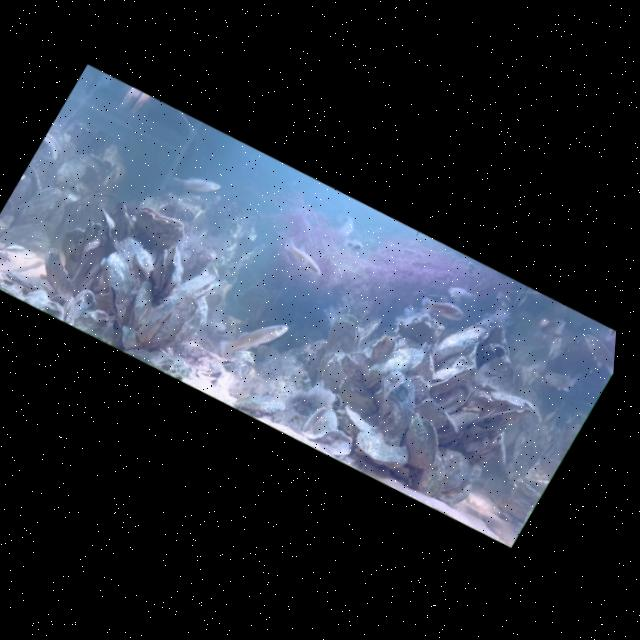Oyster-Closed: (79, 230, 166, 327), (351, 361, 436, 450), (358, 330, 428, 404), (426, 309, 493, 379), (344, 421, 415, 478), (150, 292, 202, 358), (420, 442, 478, 500), (423, 348, 479, 407), (130, 288, 180, 348), (0, 258, 62, 306), (116, 277, 165, 336), (333, 401, 392, 448), (410, 447, 460, 501), (329, 377, 383, 421), (404, 338, 450, 385), (86, 206, 126, 246)
Oyster-Indeterminate: (9, 175, 69, 242), (41, 220, 99, 282), (468, 374, 537, 426), (476, 391, 532, 446), (168, 295, 216, 357), (391, 304, 448, 355), (4, 163, 49, 216), (98, 198, 146, 247), (431, 370, 478, 418), (31, 244, 78, 290), (395, 369, 439, 412), (314, 423, 359, 464), (59, 285, 99, 330), (154, 191, 200, 230), (410, 393, 454, 433), (443, 396, 485, 436), (363, 329, 400, 369), (332, 352, 370, 385)
Oyster-Open: (386, 406, 456, 476), (124, 199, 191, 256), (317, 305, 374, 361), (142, 241, 196, 300), (296, 400, 345, 448), (174, 263, 222, 308), (31, 130, 72, 171), (217, 354, 241, 375)
